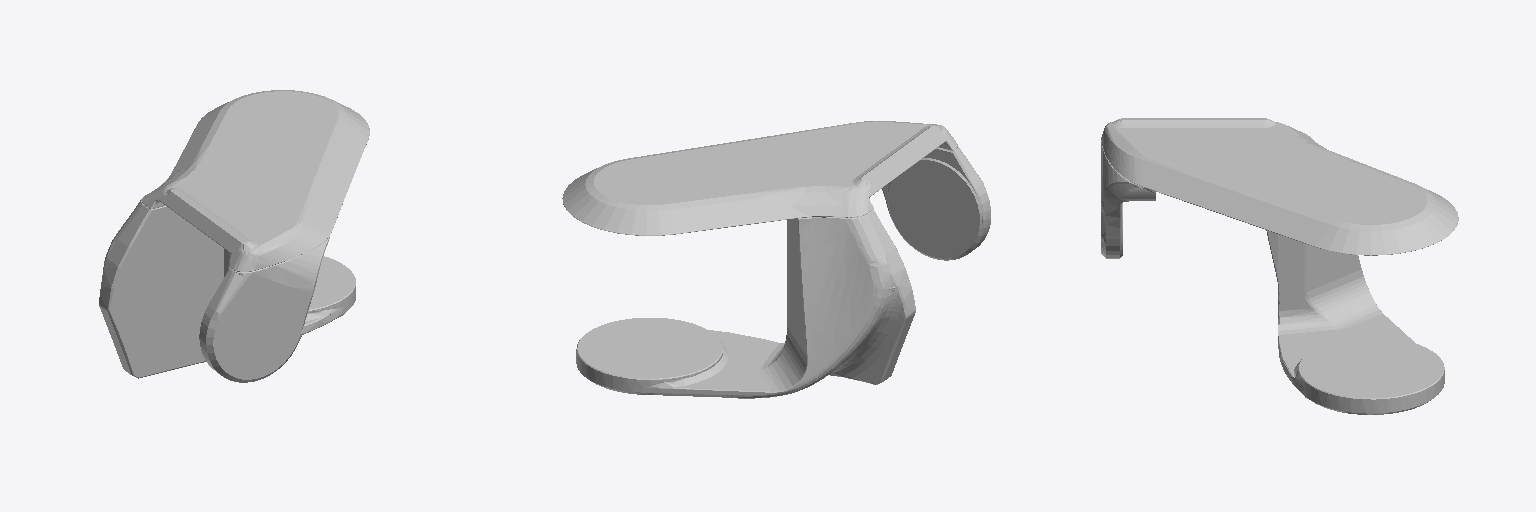
File: left_hip_yaw.obj
3 views of the same model, side by side, from view 1: azimuth 30°, elevation 25°; view 2: azimuth 150°, elevation 25°; view 3: azimuth 270°, elevation 25° (orthographic).
Visible parts, largest first — view 1: LeftHipYawLink; view 2: LeftHipYawLink; view 3: LeftHipYawLink.
Part boxes in pixels (x1,y1,x2,y2): LeftHipYawLink: (99,90,369,382); LeftHipYawLink: (562,121,990,398); LeftHipYawLink: (1101,118,1458,414).
Size of the model in its own units: 0.1934 by 0.1173 by 0.2021.